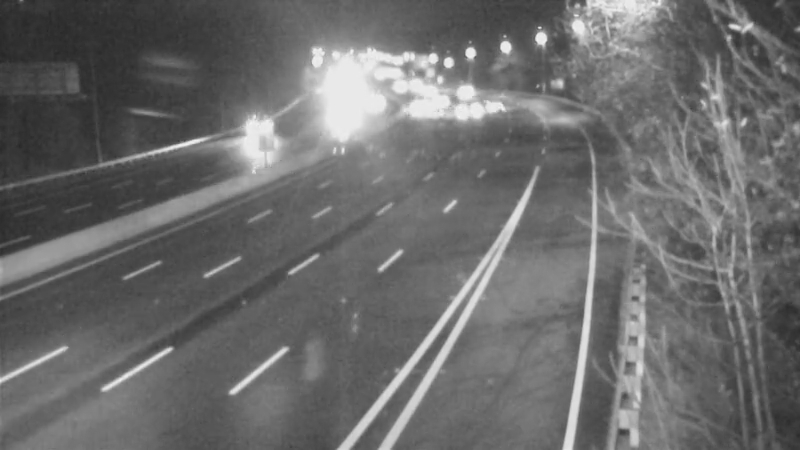vehicle: (435, 66, 485, 116), (418, 76, 468, 126), (387, 80, 437, 130), (465, 85, 515, 135), (442, 84, 492, 134), (232, 103, 282, 153)
